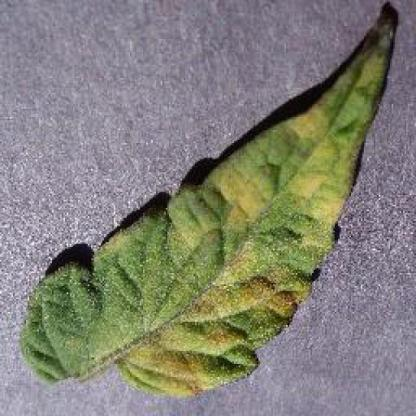Tomato_Leaf_Mold: (18, 3, 398, 397)
